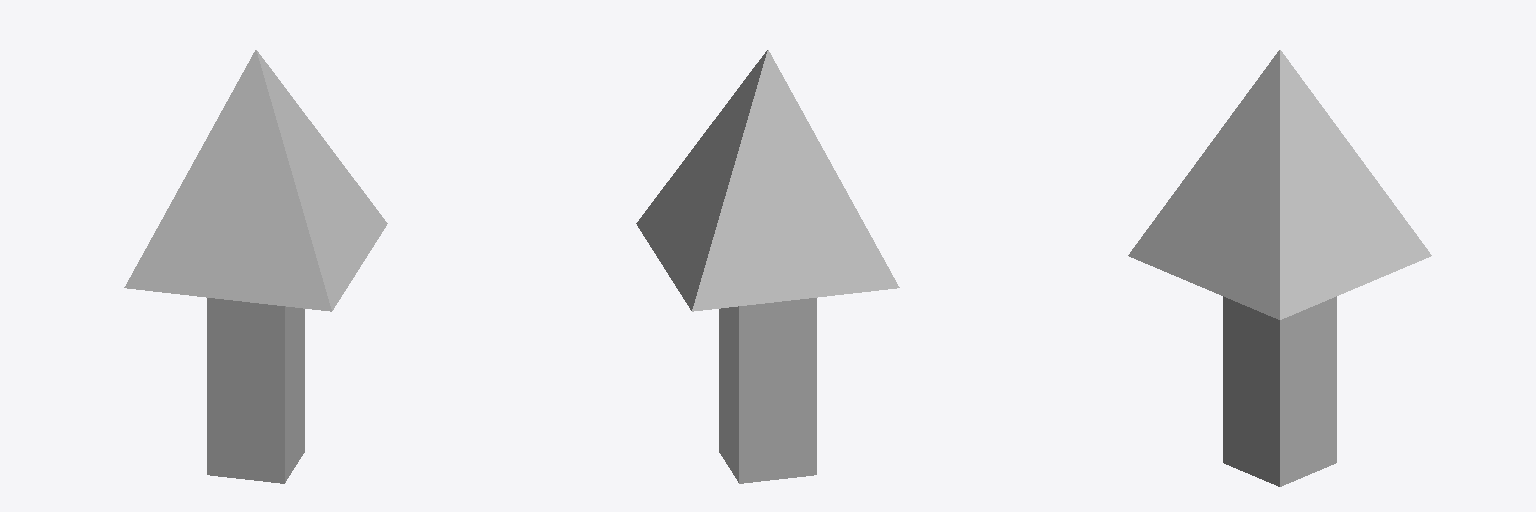
File: arrow.obj
3 views of the same model, side by side, from view 1: azimuth 30°, elevation 25°; view 2: azimuth 150°, elevation 25°; view 3: azimuth 270°, elevation 25° (orthographic).
Size of the model in its own units: 1 by 1.5 by 1.